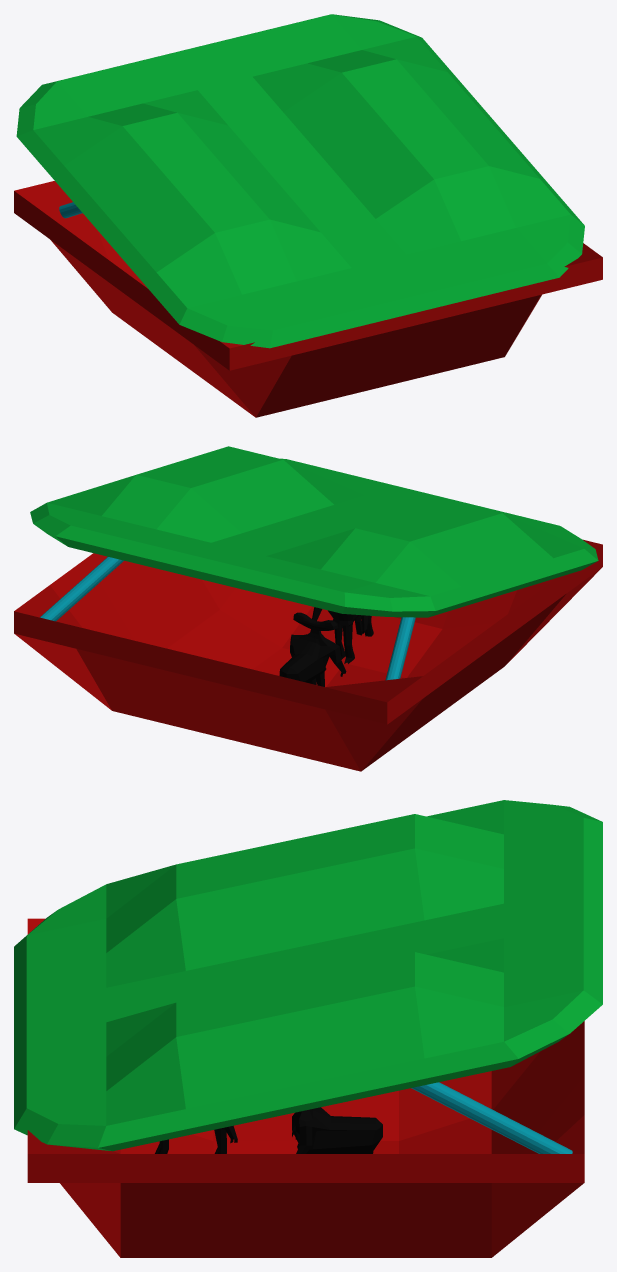
The model's file is HoundPit2d.obj.
3 renders of one model, top to bottom at view 1: azimuth 30°, elevation 25°; view 2: azimuth 150°, elevation 25°; view 3: azimuth 270°, elevation 25°, orthographic. The views are drawn at different scales.
Parts seen in each view (by area): view 1: Cube.001, Cube; view 2: Cube, Cube.001, Cube.004, Cube.003, Cube.005, Cube.002; view 3: Cube.001, Cube, Cube.004, Cube.003.
Boxes of the visible parts, bbox=[...] form: Cube.001: bbox=[16, 14, 584, 348]; Cube: bbox=[14, 181, 602, 417]; Cube: bbox=[14, 539, 602, 771]; Cube.001: bbox=[30, 446, 598, 617]; Cube.004: bbox=[279, 612, 346, 686]; Cube.003: bbox=[40, 557, 123, 621]; Cube.005: bbox=[312, 607, 373, 663]; Cube.002: bbox=[385, 617, 415, 680]; Cube.001: bbox=[14, 800, 602, 1151]; Cube: bbox=[27, 918, 584, 1257]; Cube.004: bbox=[292, 1107, 382, 1153]; Cube.003: bbox=[411, 1082, 572, 1153].
Bounding box in the file's own units: 1.55 × 0.9383 × 1.51.
